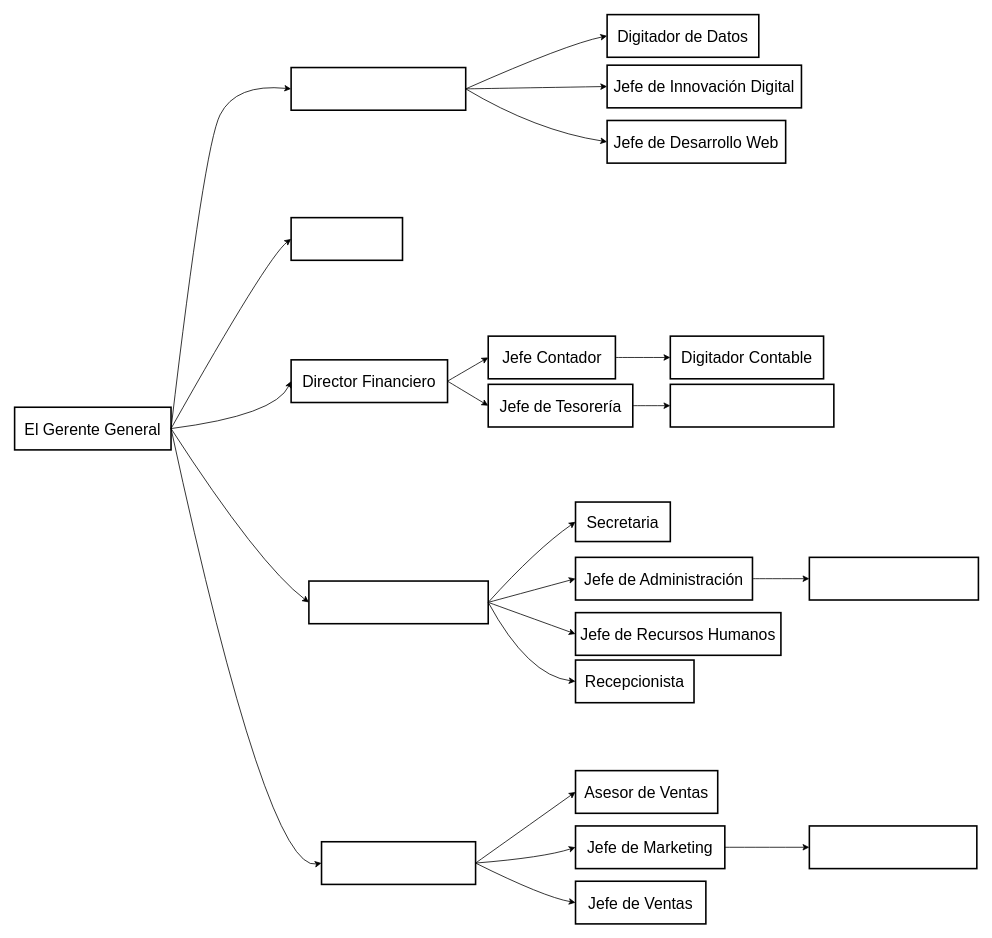
Image size: 992x938. Some labels were removed from this diagram. The shapes that lost their labels are listed below. From the top down, each one's centre as x and y in pixels, then its label:
point (378, 88): Director de Tecnología
point (346, 238): Subgerente
point (751, 405): Auxiliar de Tesorería
point (893, 578): Auxiliar Administrativo
point (398, 602): Director Administrativo
point (398, 863): Director Comercial
point (892, 847): Auxiliar de Marketing
